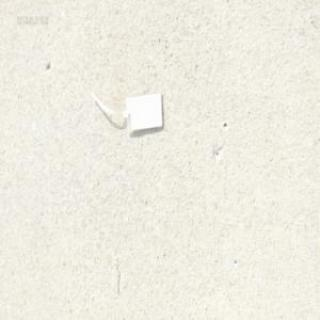LuggageTagtrack_idkeyframe: (88, 75, 165, 136)
